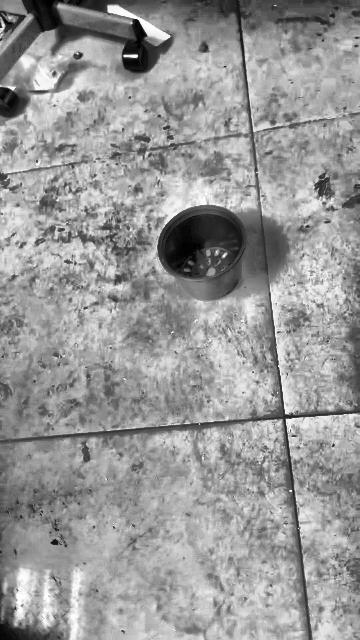pot: (158, 205, 245, 300)
